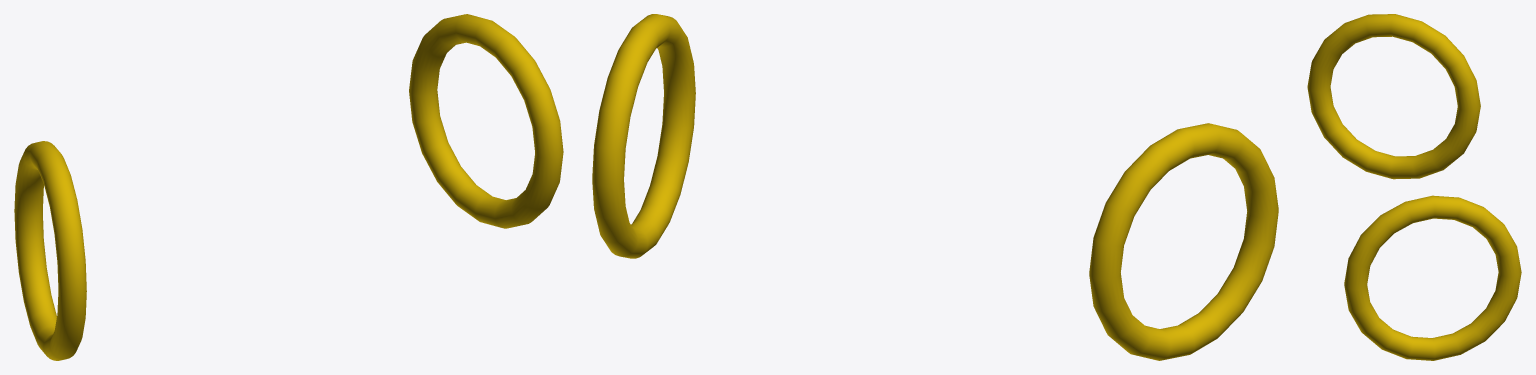
The model's file is bongTai.fbx.
3 views of the same model, side by side, from view 1: azimuth 30°, elevation 25°; view 2: azimuth 150°, elevation 25°; view 3: azimuth 270°, elevation 25° (orthographic). The views are drawn at different scales.
Visible parts, largest first — view 1: bongTai; view 2: bongTai; view 3: bongTai.
Part boxes in pixels (bbox=[...]): bongTai: bbox=[14, 14, 563, 360]; bongTai: bbox=[592, 14, 1278, 360]; bongTai: bbox=[1307, 14, 1521, 360].
Bounding box in the file's own units: 2.07 × 0.7622 × 0.9055.
